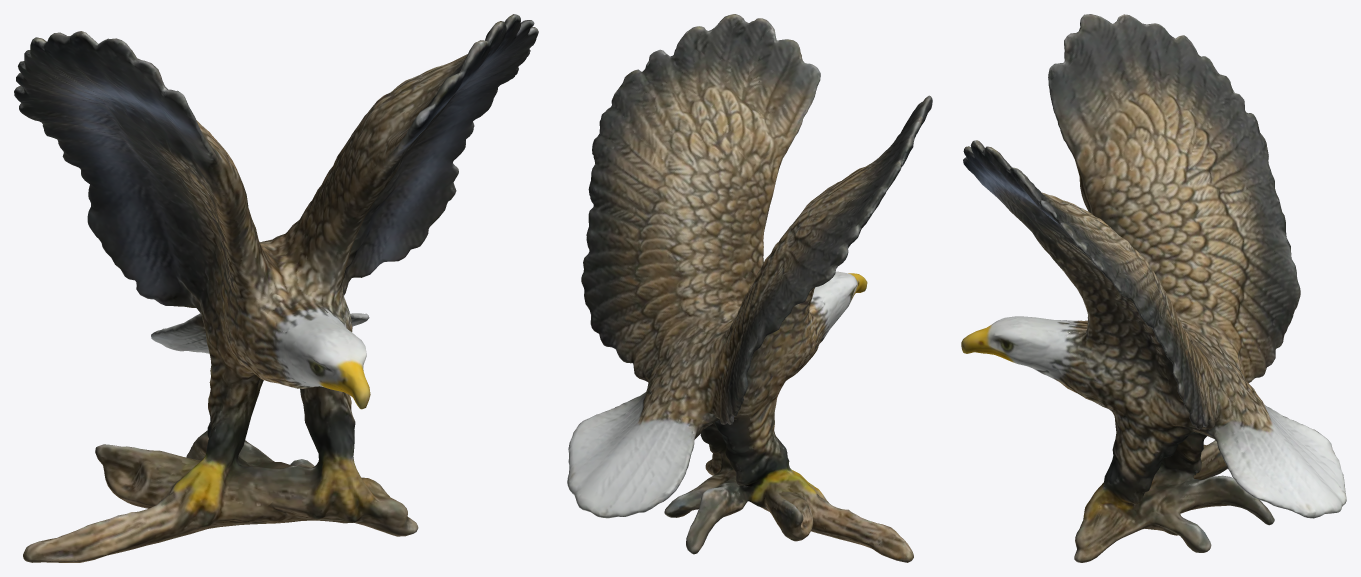
File: Schleich_Bald_Eagle.glb
3 views of the same model, side by side, from view 1: azimuth 30°, elevation 25°; view 2: azimuth 150°, elevation 25°; view 3: azimuth 270°, elevation 25° (orthographic). The views are drawn at different scales.
Parts seen in each view (by area): view 1: model.obj; view 2: model.obj; view 3: model.obj.
Part boxes in pixels (<box>): model.obj: <box>14,14,538,562</box>; model.obj: <box>567,14,932,562</box>; model.obj: <box>961,14,1346,562</box>.
Size of the model in its own units: 0.848 by 1 by 0.7933.
1 material, 1 textured.
